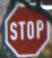Stop sign: (0, 1, 51, 57)
